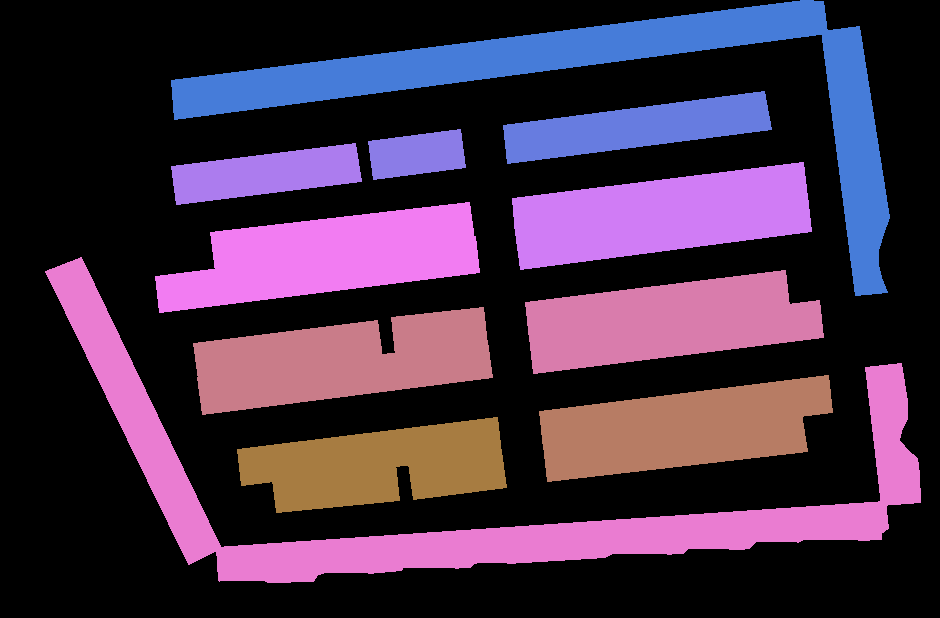parkingspot: (171, 0, 827, 119), (216, 501, 888, 582), (45, 257, 221, 564), (155, 236, 479, 312), (515, 195, 811, 269), (197, 341, 492, 414), (529, 300, 823, 373), (539, 375, 832, 448), (512, 162, 807, 234), (503, 91, 771, 163), (821, 26, 889, 295), (525, 270, 789, 339), (210, 202, 474, 271), (543, 413, 807, 481), (237, 417, 501, 485), (171, 143, 361, 204), (193, 320, 382, 379), (865, 363, 920, 505), (272, 463, 399, 512), (368, 129, 465, 179), (408, 451, 506, 499), (391, 307, 487, 355)
